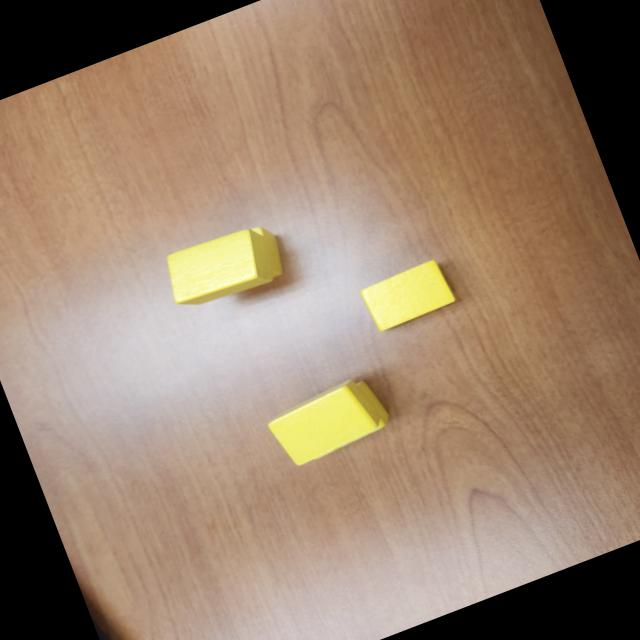yellow: (262, 374, 386, 472), (158, 220, 280, 316), (292, 375, 396, 461), (357, 256, 460, 334), (231, 221, 290, 287)
